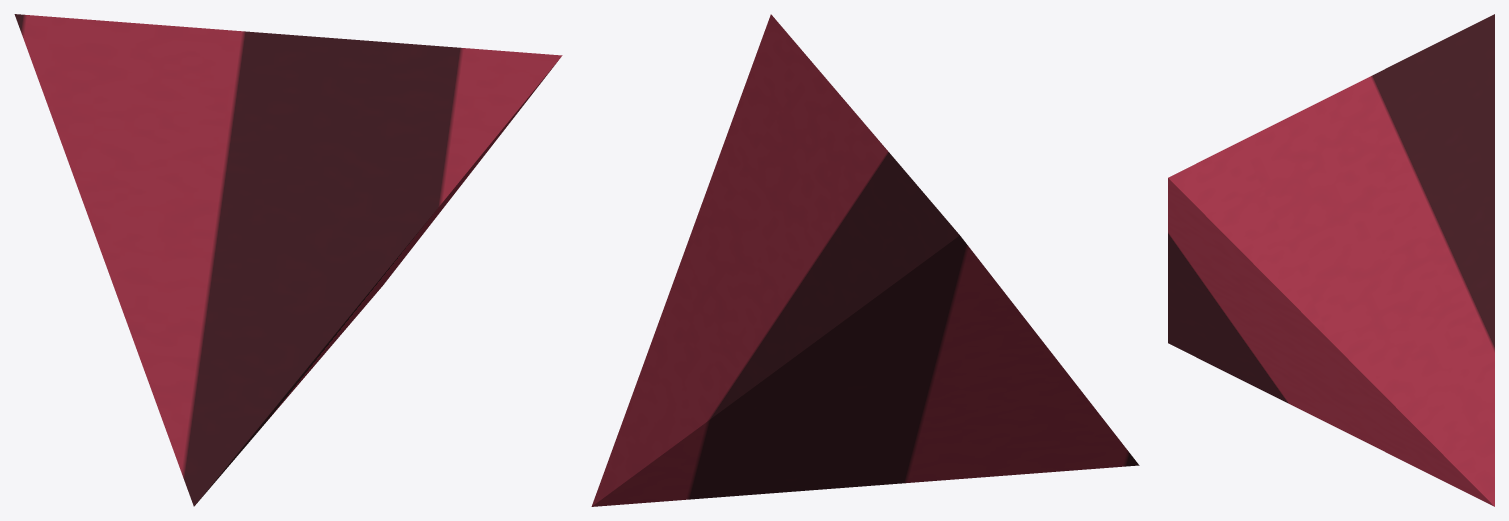
Rendered from ore.glb.
The picture shows the model from 3 angles, left to right: view 1: azimuth 30°, elevation 25°; view 2: azimuth 150°, elevation 25°; view 3: azimuth 270°, elevation 25°; orthographic projection. The views are drawn at different scales.
Parts seen in each view (by area): view 1: geometry_0; view 2: geometry_0; view 3: geometry_0.
Boxes of the visible parts, x1,y1,x2,y2 form: geometry_0: [14, 14, 562, 506]; geometry_0: [591, 14, 1139, 506]; geometry_0: [1168, 14, 1494, 506].
Size of the model in its own units: 1.57 by 1.47 by 1.32.
Materials: 1 (1 with a texture image).
